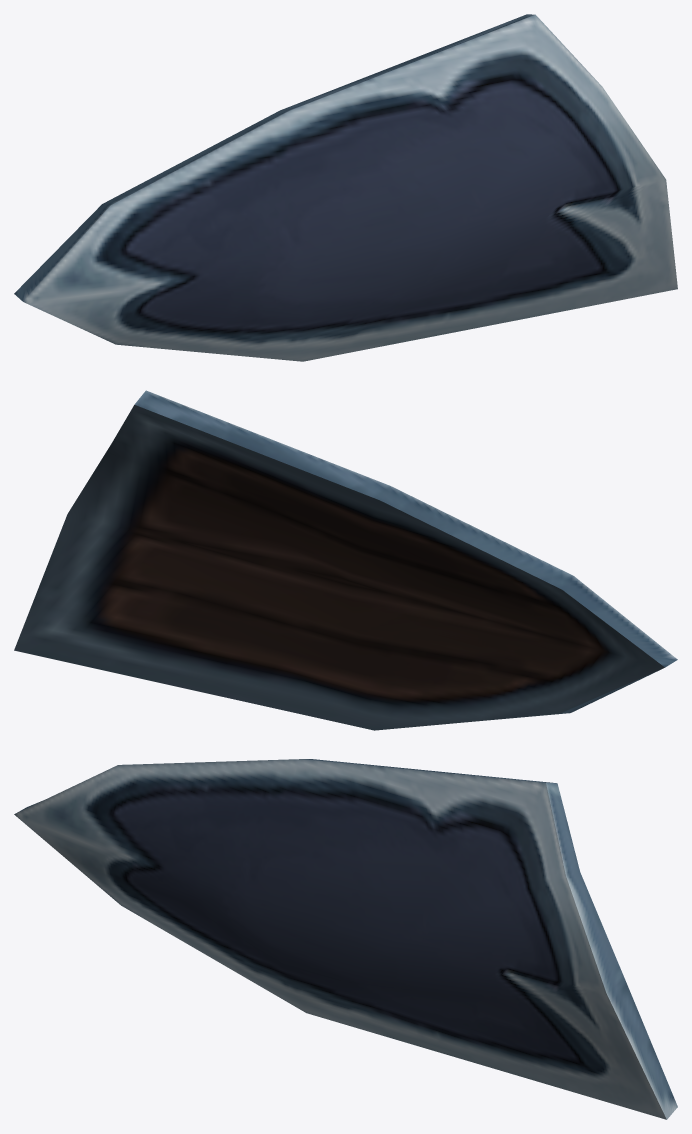
Rendered from ELF_Shield_B.FBX.
3 renders of one model, top to bottom at view 1: azimuth 30°, elevation 25°; view 2: azimuth 150°, elevation 25°; view 3: azimuth 330°, elevation 25°, orthographic.
Visible parts, largest first — view 1: ELF_Shield_B; view 2: ELF_Shield_B; view 3: ELF_Shield_B.
Part boxes in pixels (left/top/right/bottom): ELF_Shield_B: left=14, top=14, right=677, bottom=361; ELF_Shield_B: left=14, top=390, right=677, bottom=730; ELF_Shield_B: left=14, top=759, right=677, bottom=1119.
Bounding box in the file's own units: 43.61 × 19 × 5.18.
